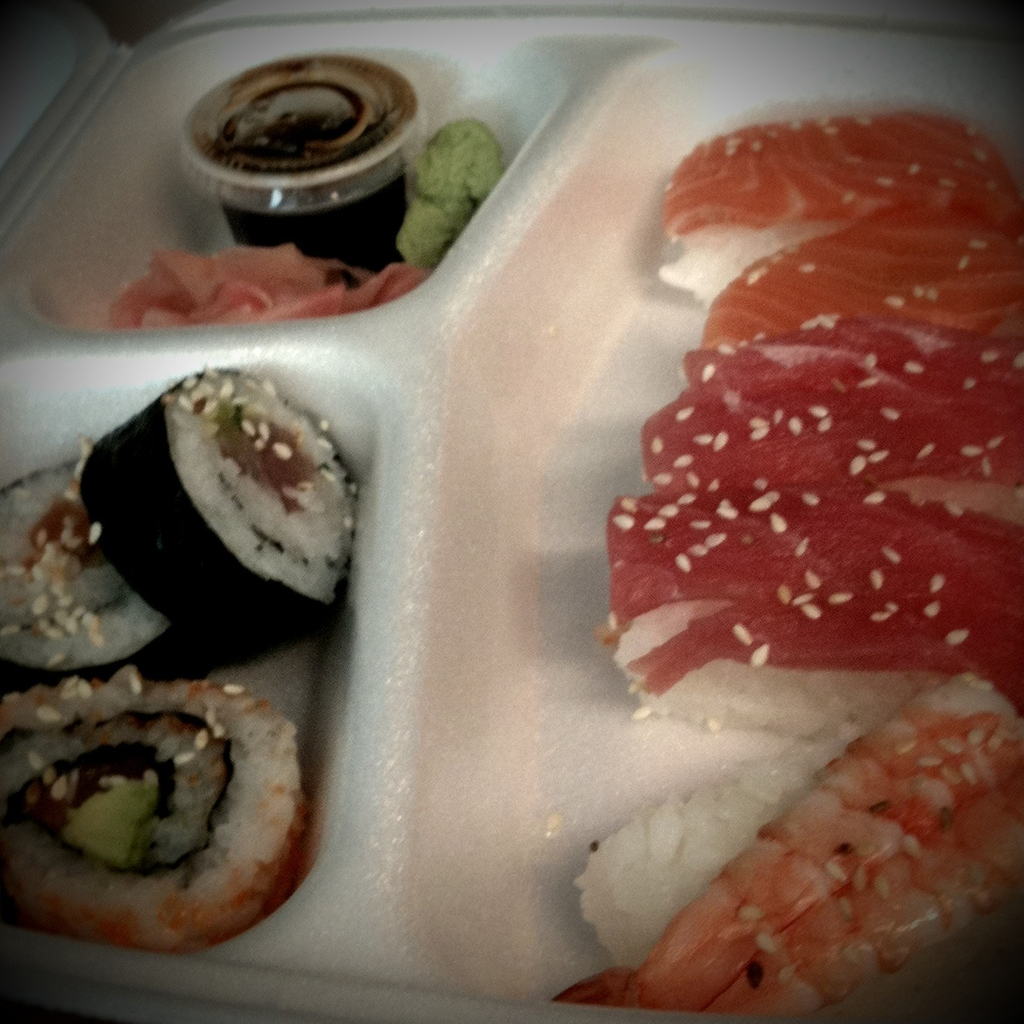sushi: (550, 106, 1020, 1023), (11, 663, 309, 965), (84, 370, 352, 637), (0, 450, 204, 690)
